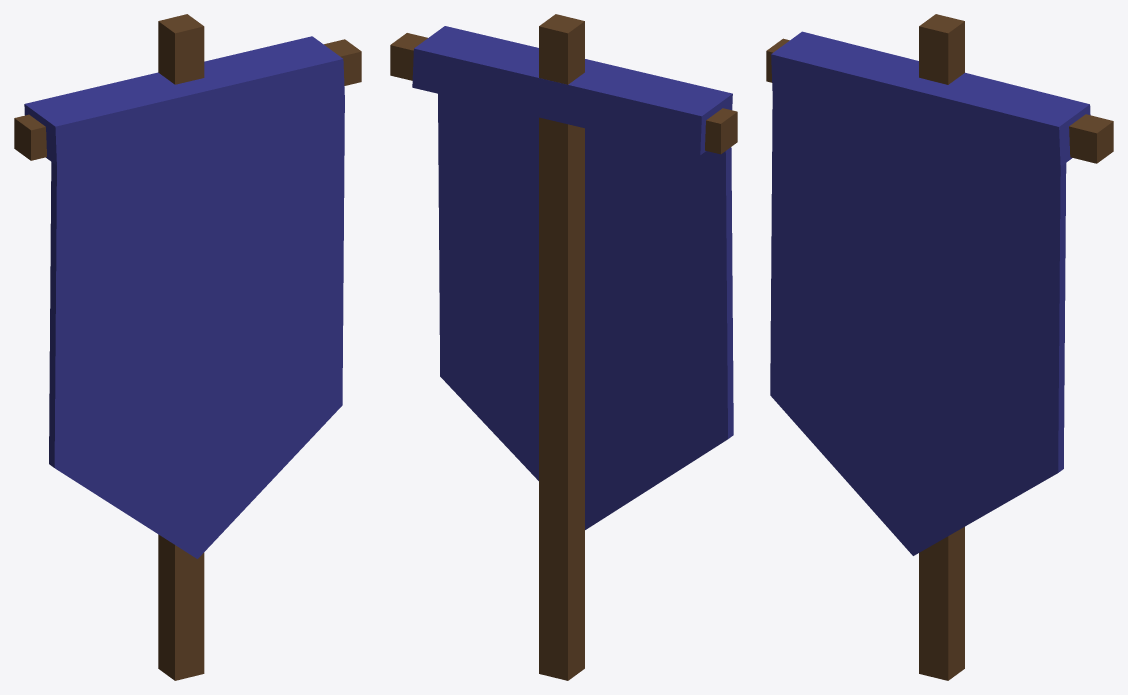
Rendered from Prop_Banner_Blue_01.fbx.
3 renders of one model, left to right at view 1: azimuth 30°, elevation 25°; view 2: azimuth 150°, elevation 25°; view 3: azimuth 330°, elevation 25°, orthographic.
Parts seen in each view (by area): view 1: Prop_Banner_Blue_01; view 2: Prop_Banner_Blue_01; view 3: Prop_Banner_Blue_01.
Part boxes in pixels (x1,y1,x2,y2): Prop_Banner_Blue_01: (14, 14, 361, 680); Prop_Banner_Blue_01: (390, 14, 737, 680); Prop_Banner_Blue_01: (766, 14, 1113, 680).
Size of the model in its own units: 2963 by 5543 by 482.
